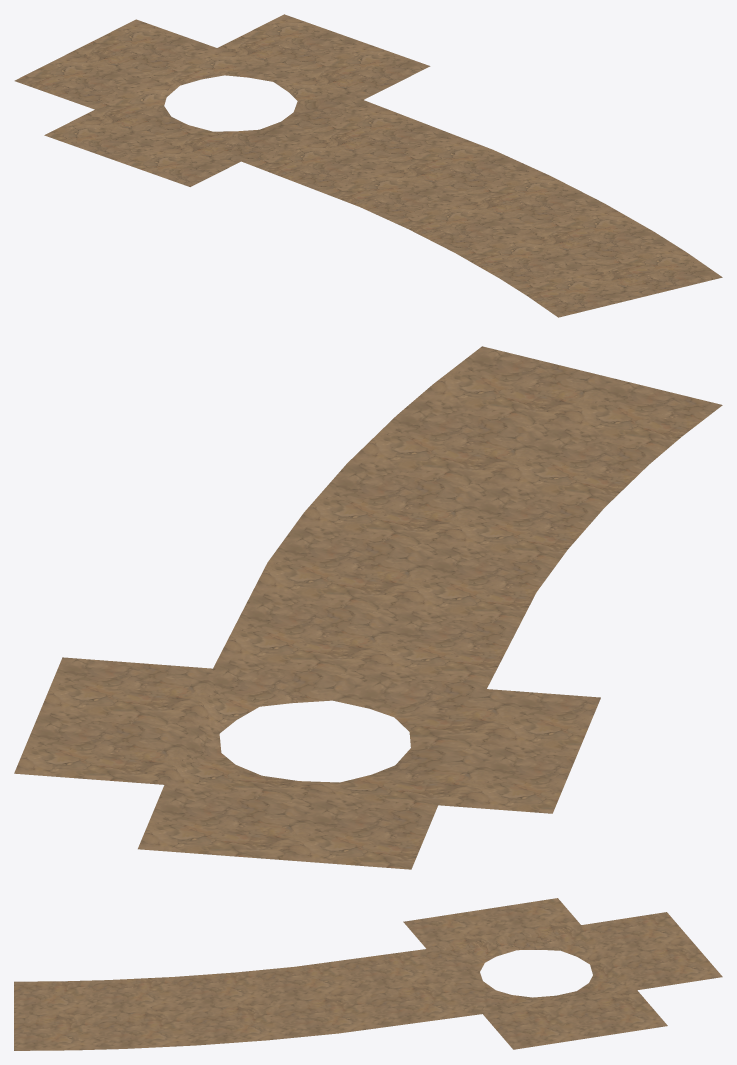
Rendered from Dungeon2_Ground_Mud_01.FBX.
The picture shows the model from 3 angles, top to bottom: view 1: azimuth 30°, elevation 25°; view 2: azimuth 150°, elevation 25°; view 3: azimuth 270°, elevation 25°; orthographic projection. The views are drawn at different scales.
Visible parts, largest first — view 1: Dungeon2_Ground_Mud_01; view 2: Dungeon2_Ground_Mud_01; view 3: Dungeon2_Ground_Mud_01.
Part boxes in pixels (box(x1,y1,x2,y2)): Dungeon2_Ground_Mud_01: box(14, 14, 722, 317); Dungeon2_Ground_Mud_01: box(14, 346, 722, 869); Dungeon2_Ground_Mud_01: box(14, 898, 722, 1050).
Bounding box in the file's own units: 29.04 × 0.2291 × 56.87.
